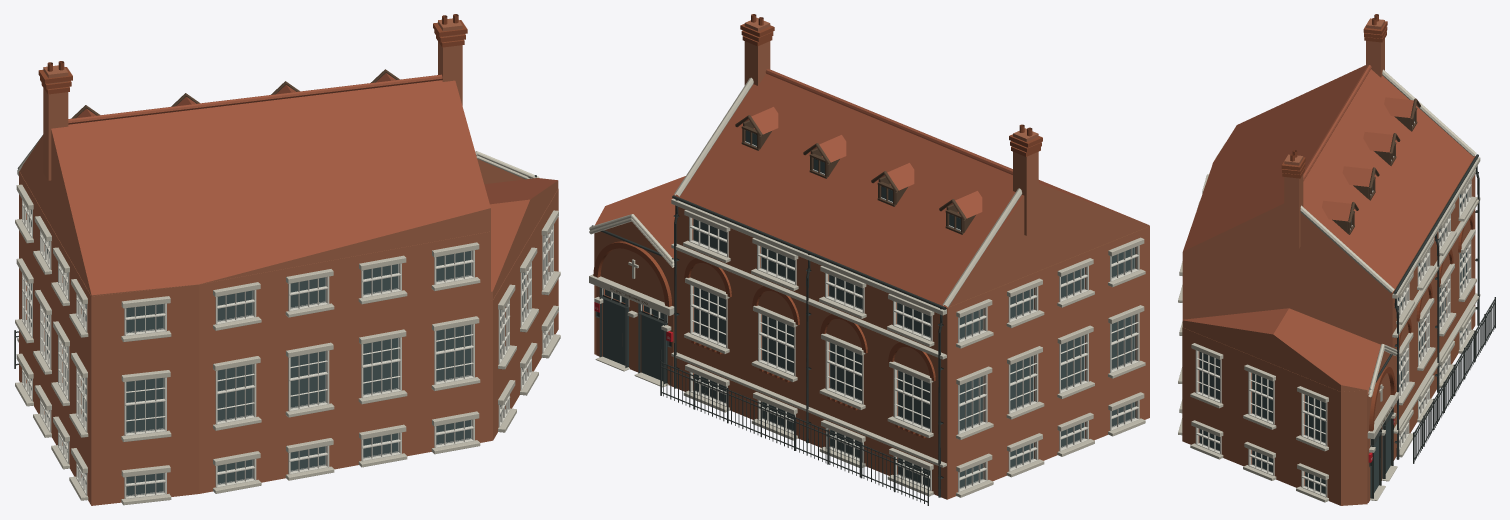
Rendered from par-exterior-a92c1ac3d327.glb.
3 views of the same model, side by side, from view 1: azimuth 30°, elevation 25°; view 2: azimuth 150°, elevation 25°; view 3: azimuth 270°, elevation 25° (orthographic). The views are drawn at different scales.
Parts seen in each view (by area): view 1: PAR.001; view 2: PAR.001; view 3: PAR.001.
Boxes of the visible parts, x1,y1,x2,y2 form: PAR.001: (14,14,560,505); PAR.001: (589,14,1149,505); PAR.001: (1178,14,1495,505).
Bounding box in the file's own units: 23.48 × 15.49 × 14.92.
